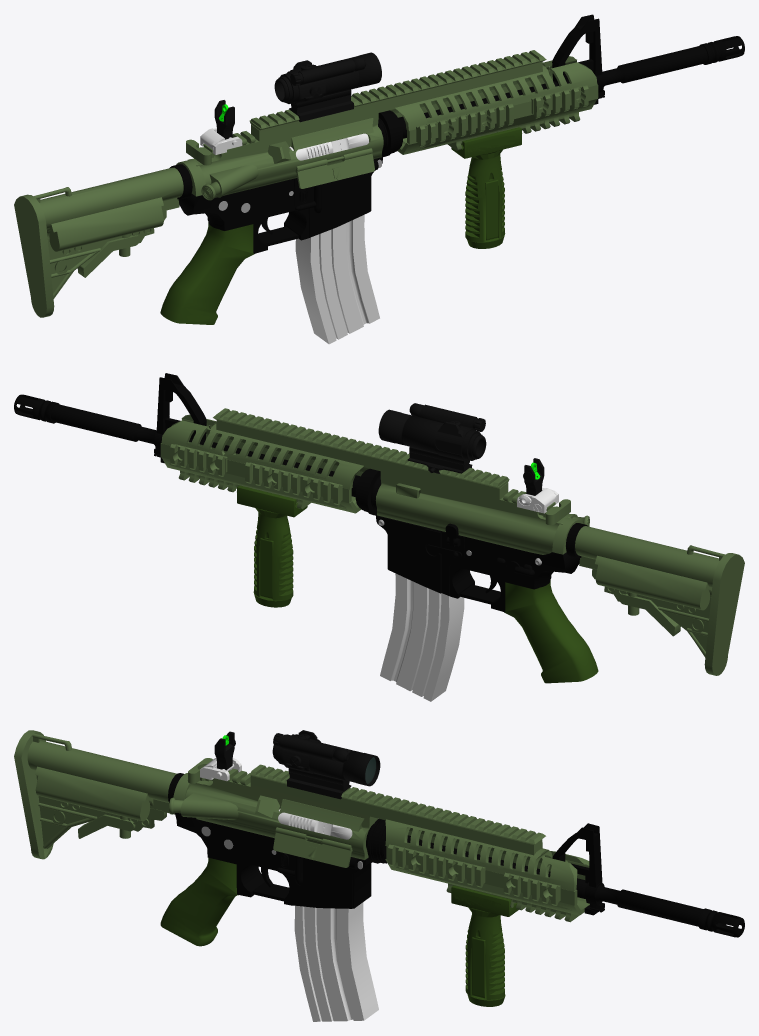
The picture shows the model from 3 angles, top to bottom: view 1: azimuth 30°, elevation 25°; view 2: azimuth 150°, elevation 25°; view 3: azimuth 330°, elevation 25°; orthographic projection.
Parts seen in each view (by area): view 1: m4a1_upper receiver, m4a1_lower receiver, m4a1_stock, m4a1_magazine, m4a1_tactical foregrip, m4a1_aimpoint_comp_m4, m4a1_front sight, m4a1_bolt, m4a1_troy_rear_base, m4a1_troy_rear_post; view 2: m4a1_upper receiver, m4a1_lower receiver, m4a1_stock, m4a1_magazine, m4a1_aimpoint_comp_m4, m4a1_tactical foregrip, m4a1_front sight, m4a1_troy_rear_base, m4a1_troy_rear_post; view 3: m4a1_upper receiver, m4a1_stock, m4a1_lower receiver, m4a1_magazine, m4a1_aimpoint_comp_m4, m4a1_tactical foregrip, m4a1_front sight, m4a1_bolt, m4a1_troy_rear_post, m4a1_troy_rear_base.
Part boxes in pixels (left/top/right/bottom): m4a1_upper receiver: left=176, top=36, right=744, bottom=200; m4a1_lower receiver: left=160, top=156, right=382, bottom=324; m4a1_stock: left=14, top=167, right=183, bottom=317; m4a1_magazine: left=295, top=214, right=379, bottom=344; m4a1_tactical foregrip: left=451, top=127, right=521, bottom=248; m4a1_aimpoint_comp_m4: left=274, top=52, right=381, bottom=122; m4a1_front sight: left=552, top=14, right=604, bottom=104; m4a1_bolt: left=289, top=133, right=369, bottom=160; m4a1_troy_rear_base: left=200, top=128, right=242, bottom=154; m4a1_troy_rear_post: left=214, top=100, right=234, bottom=139; m4a1_upper receiver: left=14, top=394, right=589, bottom=554; m4a1_lower receiver: left=376, top=514, right=598, bottom=683; m4a1_stock: left=575, top=526, right=744, bottom=675; m4a1_magazine: left=380, top=573, right=464, bottom=701; m4a1_aimpoint_comp_m4: left=378, top=403, right=486, bottom=473; m4a1_tactical foregrip: left=237, top=485, right=307, bottom=607; m4a1_front sight: left=154, top=373, right=206, bottom=463; m4a1_troy_rear_base: left=517, top=487, right=558, bottom=513; m4a1_troy_rear_post: left=523, top=458, right=544, bottom=495; m4a1_upper receiver: left=169, top=758, right=744, bottom=937; m4a1_stock: left=14, top=730, right=176, bottom=859; m4a1_lower receiver: left=160, top=773, right=372, bottom=946; m4a1_magazine: left=294, top=902, right=378, bottom=1021; m4a1_aimpoint_comp_m4: left=272, top=730, right=380, bottom=799; m4a1_tactical foregrip: left=451, top=885, right=518, bottom=1006; m4a1_front sight: left=552, top=823, right=604, bottom=915; m4a1_bolt: left=278, top=809, right=352, bottom=839; m4a1_troy_rear_post: left=214, top=731, right=235, bottom=770; m4a1_troy_rear_base: left=200, top=758, right=241, bottom=781.
Bounding box in the file's own units: 30.46 × 11.4 × 2.87.
